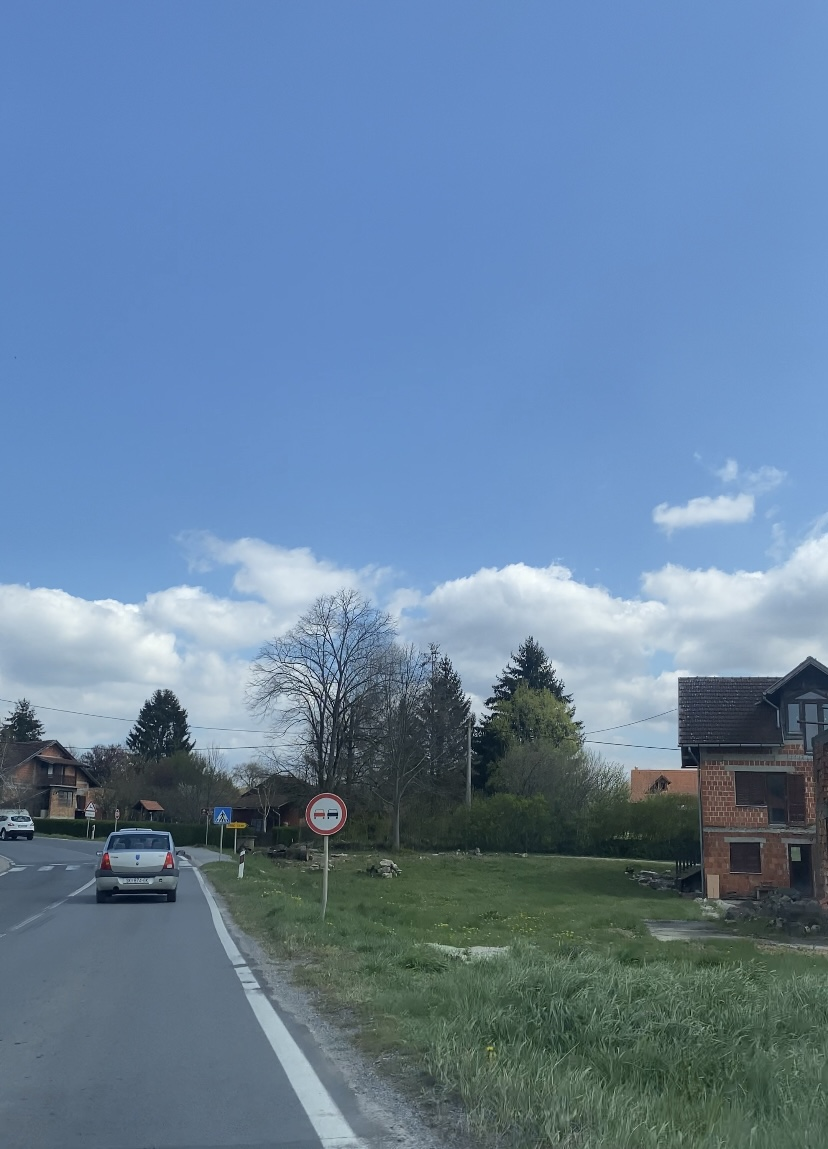Pješački prijelaz: (213, 807, 231, 824)
Zabrana pretjecanja: (305, 793, 347, 835)
